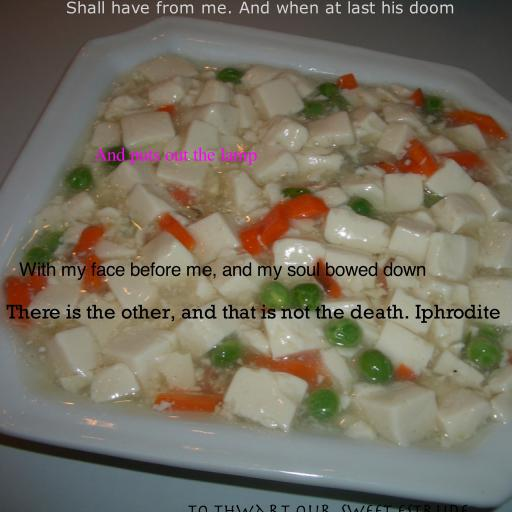Big Caslon: (18, 262, 426, 280)
Herculanum: (187, 504, 469, 512)
Rockwell: (5, 304, 501, 323)
Times New Roman: (93, 147, 257, 165)
Verdana: (65, 1, 455, 14)
